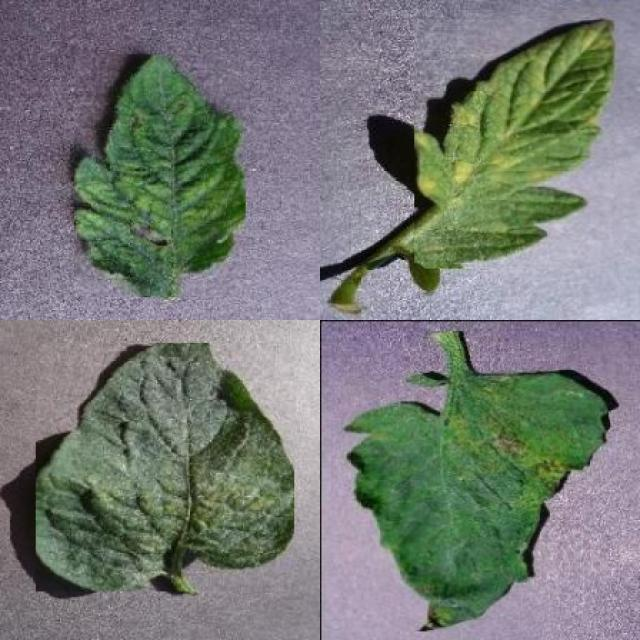Leaf Mold: (415, 18, 615, 268)
Mosaic Virus: (74, 55, 246, 298)
Septoria: (342, 372, 609, 632)
Spider Mites: (36, 343, 294, 591)
